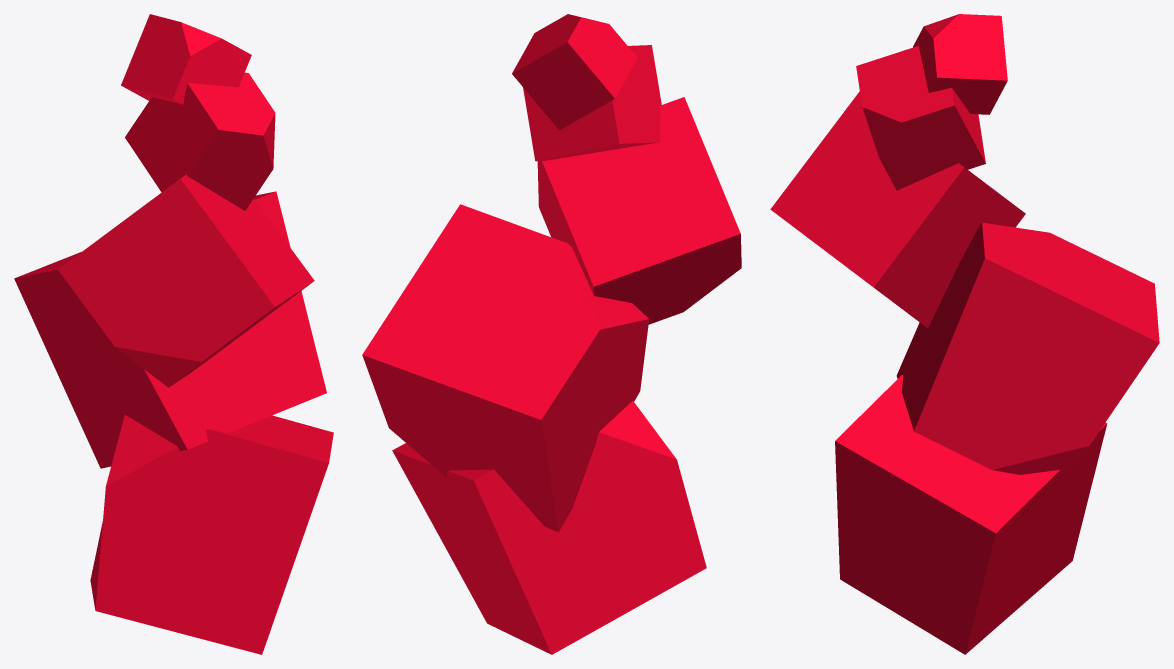
File: CubRock009.FBX
3 renders of one model, left to right at view 1: azimuth 30°, elevation 25°; view 2: azimuth 150°, elevation 25°; view 3: azimuth 270°, elevation 25°, orthographic. The views are drawn at different scales.
Visible parts, largest first — view 1: RockPile020, RockPile016, RockPile017, RockPile019, RockPile018; view 2: RockPile017, RockPile020, RockPile016, RockPile018, RockPile019; view 3: RockPile017, RockPile020, RockPile016, RockPile019, RockPile018.
Boxes of the visible parts, <box> form: RockPile020: <box>90,415,333,654</box>; RockPile016: <box>58,174,314,387</box>; RockPile017: <box>14,191,326,468</box>; RockPile019: <box>125,72,275,210</box>; RockPile018: <box>121,14,251,104</box>; RockPile017: <box>362,204,649,532</box>; RockPile020: <box>392,401,706,654</box>; RockPile016: <box>537,97,741,324</box>; RockPile018: <box>512,14,637,130</box>; RockPile019: <box>523,45,661,161</box>; RockPile017: <box>896,222,1159,474</box>; RockPile020: <box>835,375,1107,654</box>; RockPile016: <box>770,91,1025,328</box>; RockPile019: <box>856,46,985,190</box>; RockPile018: <box>913,14,1007,114</box>.
Bounding box in the file's own units: 80.87 × 156 × 91.85.
